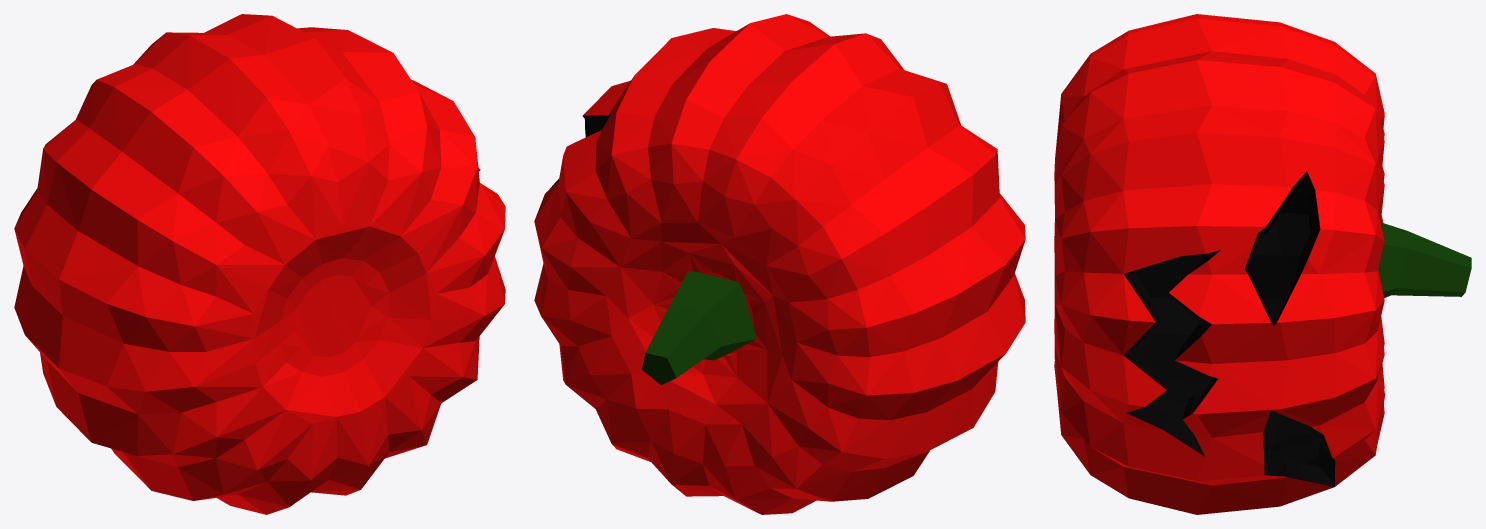
Rendered from pumpkin.fbx.
3 renders of one model, left to right at view 1: azimuth 30°, elevation 25°; view 2: azimuth 150°, elevation 25°; view 3: azimuth 270°, elevation 25°, orthographic.
Visible parts, largest first — view 1: Sphere; view 2: Sphere; view 3: Sphere.
Part boxes in pixels (x1=…): Sphere: x1=14, y1=14, x2=505, y2=514; Sphere: x1=534, y1=14, x2=1025, y2=514; Sphere: x1=1054, y1=14, x2=1471, y2=514.
Bounding box in the file's own units: 0.9956 × 0.9956 × 0.8357.
